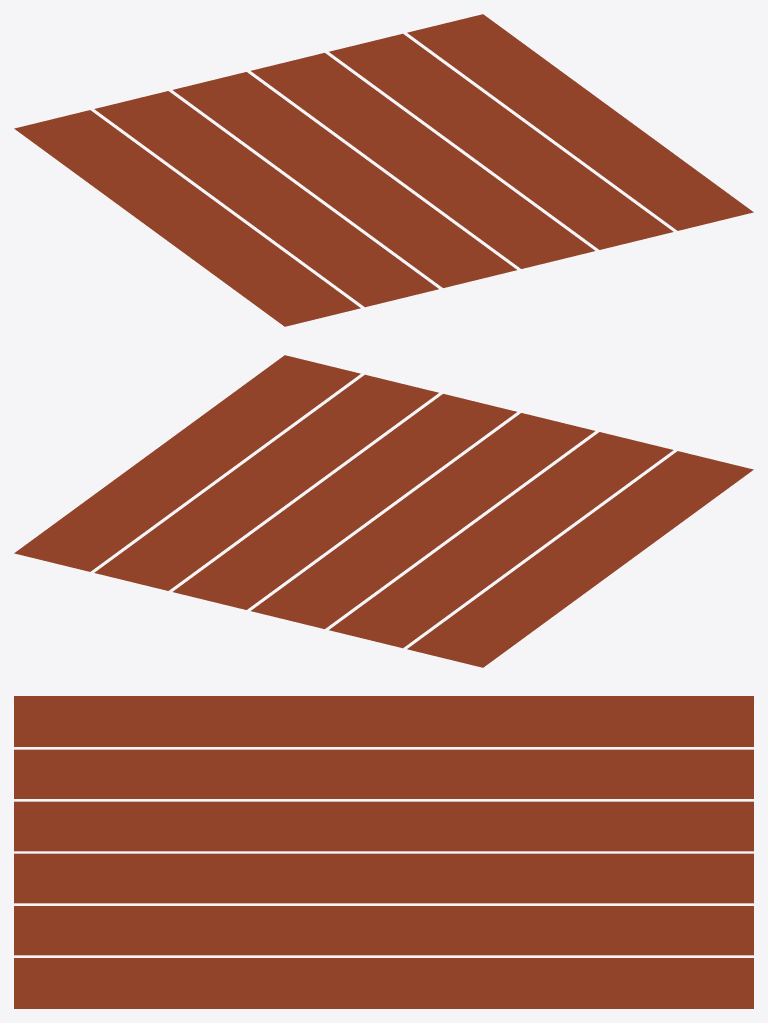
Rendered from wall_006.glb.
The picture shows the model from 3 angles, top to bottom: view 1: azimuth 30°, elevation 25°; view 2: azimuth 150°, elevation 25°; view 3: azimuth 270°, elevation 25°; orthographic projection. The views are drawn at different scales.
Visible parts, largest first — view 1: wall_006; view 2: wall_006; view 3: wall_006.
Boxes of the visible parts, box(x1,y1,x2,y2) form: wall_006: box(14, 14, 753, 326); wall_006: box(14, 355, 753, 667); wall_006: box(14, 696, 753, 1008).
Size of the model in its own units: 4 by 0 by 4.
1 material, 1 textured.
